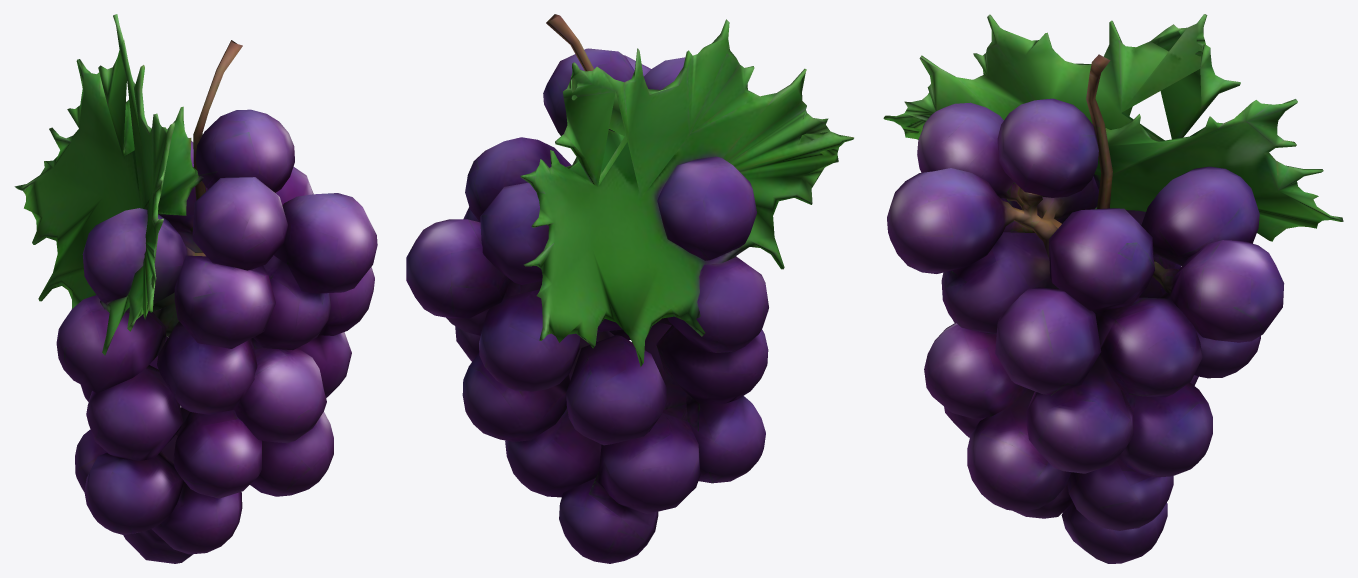
The model's file is grape.glb.
3 renders of one model, left to right at view 1: azimuth 30°, elevation 25°; view 2: azimuth 150°, elevation 25°; view 3: azimuth 270°, elevation 25°, orthographic. The views are drawn at different scales.
Parts seen in each view (by area): view 1: tripo_node_58ee6e12-d9a4-4d98-8316-c30eb7adc62c; view 2: tripo_node_58ee6e12-d9a4-4d98-8316-c30eb7adc62c; view 3: tripo_node_58ee6e12-d9a4-4d98-8316-c30eb7adc62c.
Boxes of the visible parts, x1=… form: tripo_node_58ee6e12-d9a4-4d98-8316-c30eb7adc62c: x1=14, y1=14, x2=377, y2=563; tripo_node_58ee6e12-d9a4-4d98-8316-c30eb7adc62c: x1=406, y1=14, x2=853, y2=563; tripo_node_58ee6e12-d9a4-4d98-8316-c30eb7adc62c: x1=883, y1=14, x2=1343, y2=563.
Size of the model in its own units: 0.5996 by 0.998 by 0.7715.
1 material, 1 textured.
